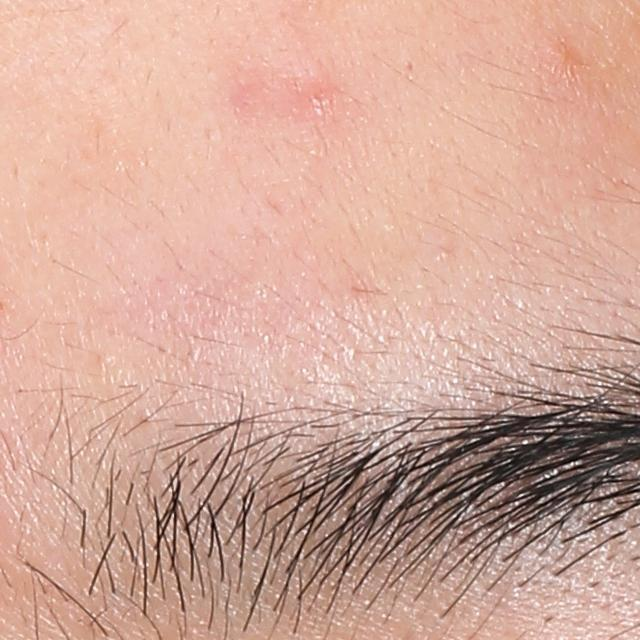papule: (308, 84, 335, 114)
